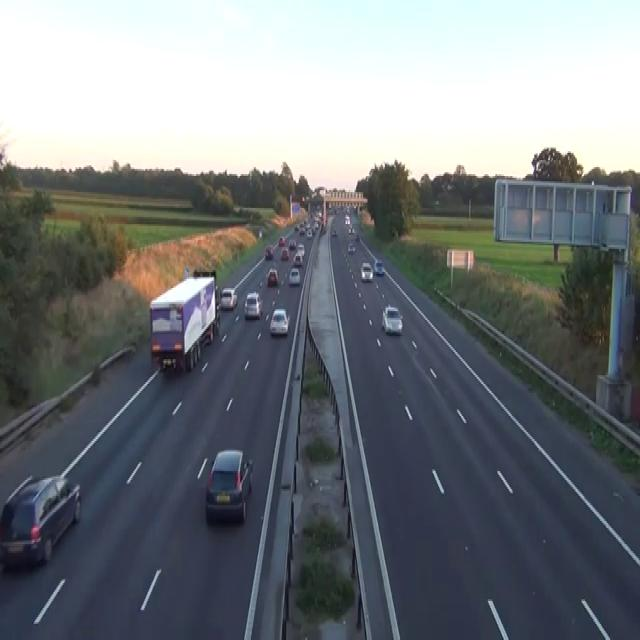Car: (0, 473, 81, 567), (205, 448, 253, 523), (381, 304, 403, 334), (269, 308, 289, 334), (243, 292, 262, 318), (205, 304, 220, 334), (220, 286, 237, 310), (360, 261, 373, 281), (266, 267, 278, 286), (203, 323, 213, 345), (288, 266, 300, 284), (374, 258, 384, 276), (292, 250, 303, 266), (215, 304, 220, 332), (264, 246, 273, 260), (215, 284, 220, 306), (280, 247, 288, 260), (288, 238, 296, 249), (297, 242, 304, 254), (347, 242, 355, 252), (278, 235, 285, 245), (313, 219, 320, 229), (344, 215, 350, 224), (348, 224, 354, 233), (331, 228, 337, 236), (306, 230, 312, 238), (299, 226, 305, 234), (354, 233, 359, 242), (321, 224, 326, 233), (294, 224, 299, 231), (258, 230, 262, 238), (301, 195, 305, 202)
Truck: (149, 272, 218, 373), (183, 267, 221, 336)
